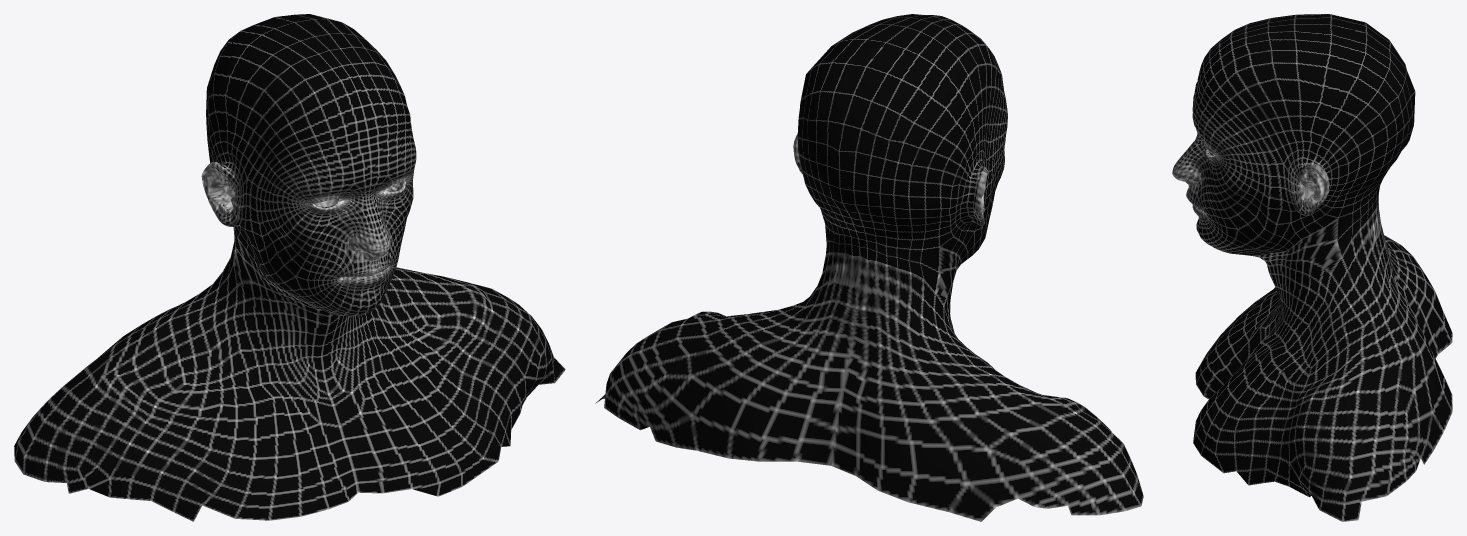
The model's file is head.obj.
3 views of the same model, side by side, from view 1: azimuth 30°, elevation 25°; view 2: azimuth 150°, elevation 25°; view 3: azimuth 270°, elevation 25° (orthographic). The views are drawn at different scales.
Visible parts, largest first — view 1: male_muscle_13290.obj; view 2: male_muscle_13290.obj; view 3: male_muscle_13290.obj.
Boxes of the visible parts, left/top/right/bottom form: male_muscle_13290.obj: left=14, top=14, right=565, bottom=521; male_muscle_13290.obj: left=595, top=14, right=1143, bottom=521; male_muscle_13290.obj: left=1172, top=14, right=1452, bottom=521.
Size of the model in its own units: 5.65 by 4.34 by 2.83.
